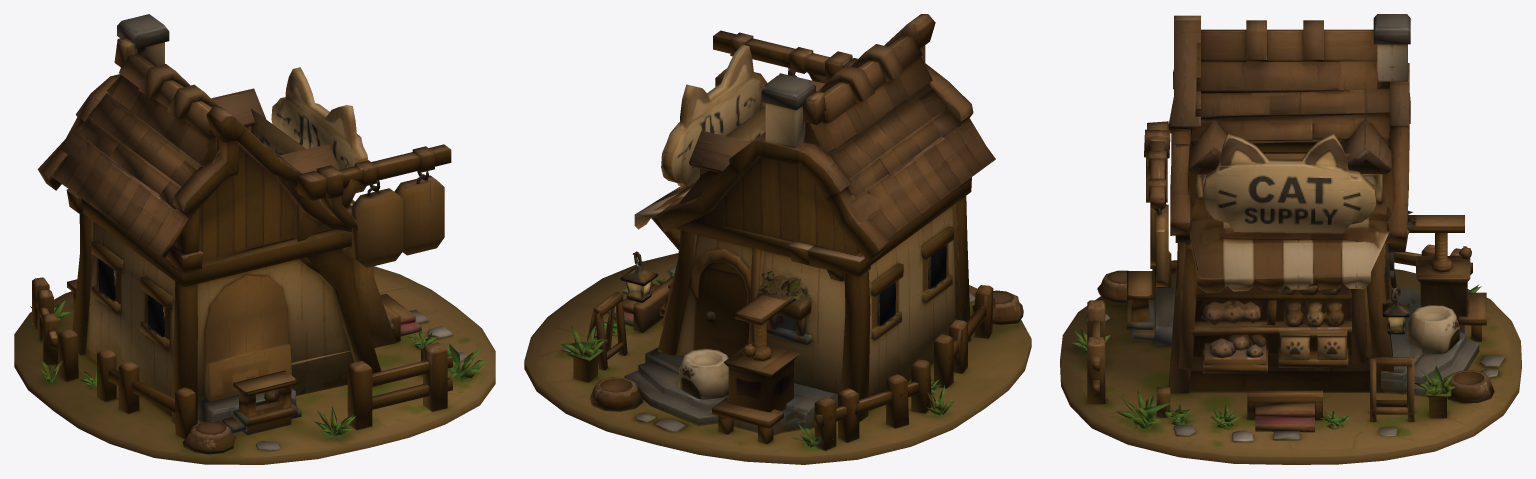
Rendered from tripo_convert_36a8c903-7c5d-4c13-8277-0bb963ecf7d0.fbx.
3 renders of one model, left to right at view 1: azimuth 30°, elevation 25°; view 2: azimuth 150°, elevation 25°; view 3: azimuth 270°, elevation 25°, orthographic. The views are drawn at different scales.
Visible parts, largest first — view 1: tripo_node_36a8c903; view 2: tripo_node_36a8c903; view 3: tripo_node_36a8c903.
Boxes of the visible parts, x1=… form: tripo_node_36a8c903: x1=14, y1=14, x2=495, y2=464; tripo_node_36a8c903: x1=524, y1=14, x2=1031, y2=464; tripo_node_36a8c903: x1=1060, y1=14, x2=1521, y2=464.
Bounding box in the file's own units: 0.998 × 0.7559 × 0.998.
1 material, 1 textured.
